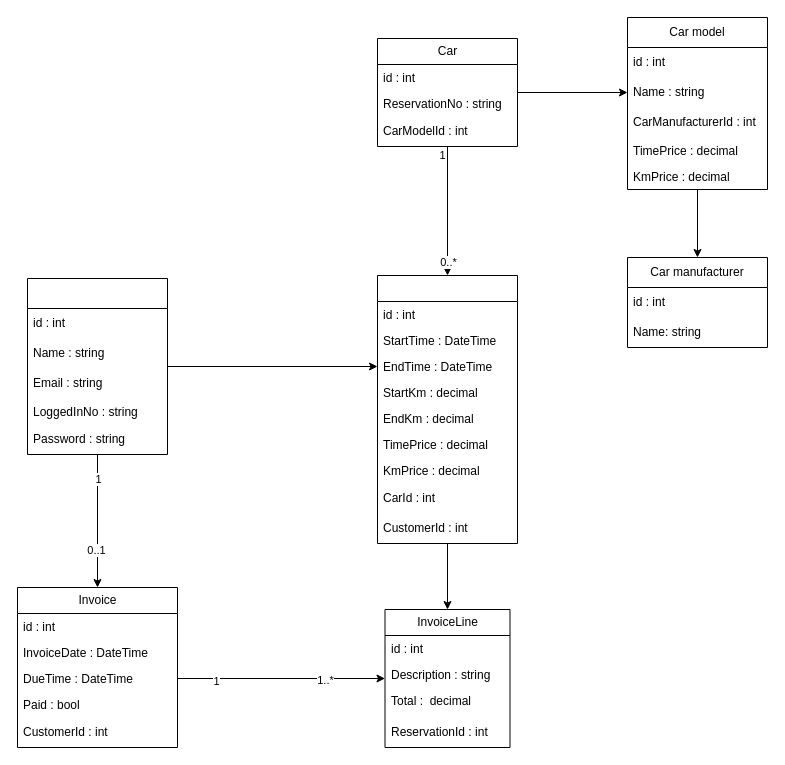
This 785x765 diagram has some shape labels left out. The shapes that lost their labels are listed below. From the top down, each one's box as (x1, y1, x2, y2) in pixels, then its label:
(26, 278, 168, 454): Customer
(376, 274, 518, 544): Reservation
